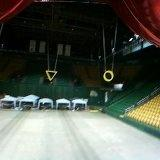Yellow_Circle_GShape: (103, 70, 114, 81)
Yellow_Triangle_Gshape: (45, 70, 56, 81)
